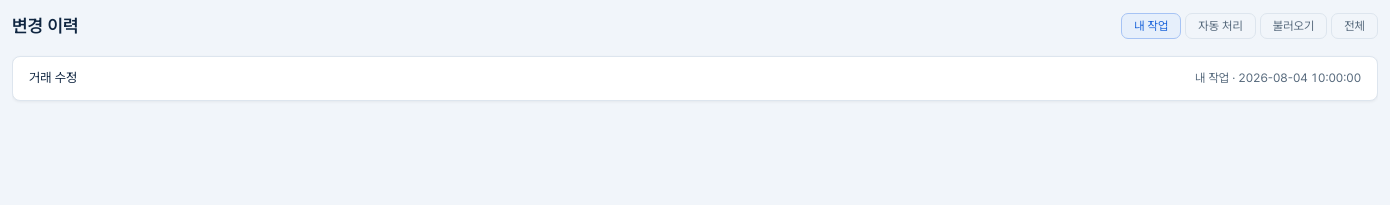
Test: C. 변경 내용 펼치기 › C-1. 행을 누르면 바뀐 필드가 보인다
This screenshot has width=1390, height=205.
Click the button "거래 수정 내 작업 · 2026-08-04 10:00:00".
click(53, 78)  # box [29, 69, 1361, 88]
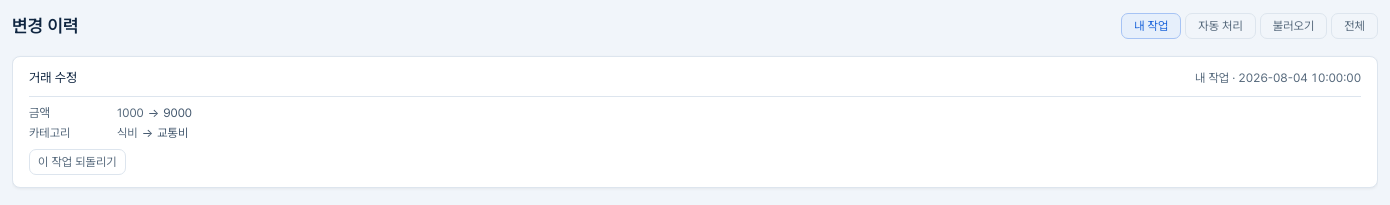
expect the text "금액" is shown: met, box [29, 106, 50, 120]
expect the text "9000" is shown: met, box [163, 106, 192, 120]
